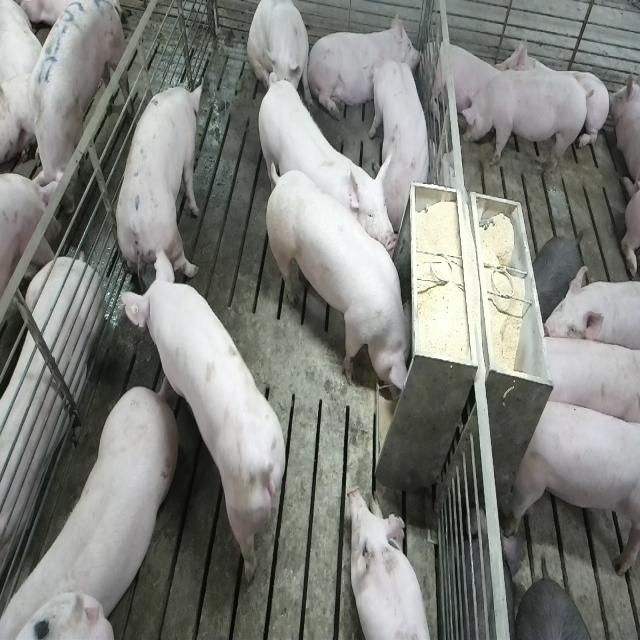Feeding: (264, 158, 414, 394)
Sitting: (246, 0, 312, 105)
Standing: (120, 248, 289, 593), (1, 376, 180, 640), (481, 394, 640, 572), (30, 0, 131, 207), (114, 72, 207, 282), (368, 54, 433, 228), (527, 332, 640, 418), (535, 263, 640, 352)
Sternal_lying: (0, 252, 102, 577), (345, 482, 435, 640), (496, 32, 608, 154), (310, 13, 427, 124), (420, 33, 507, 131), (607, 71, 640, 186)
